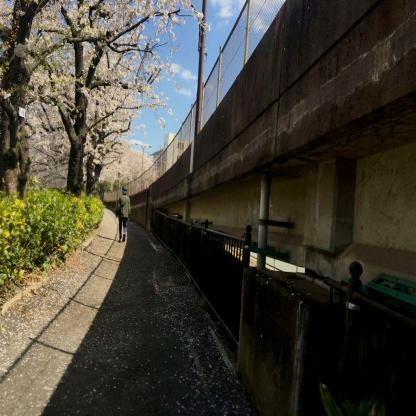Someiyoshino: (0, 0, 216, 196)
